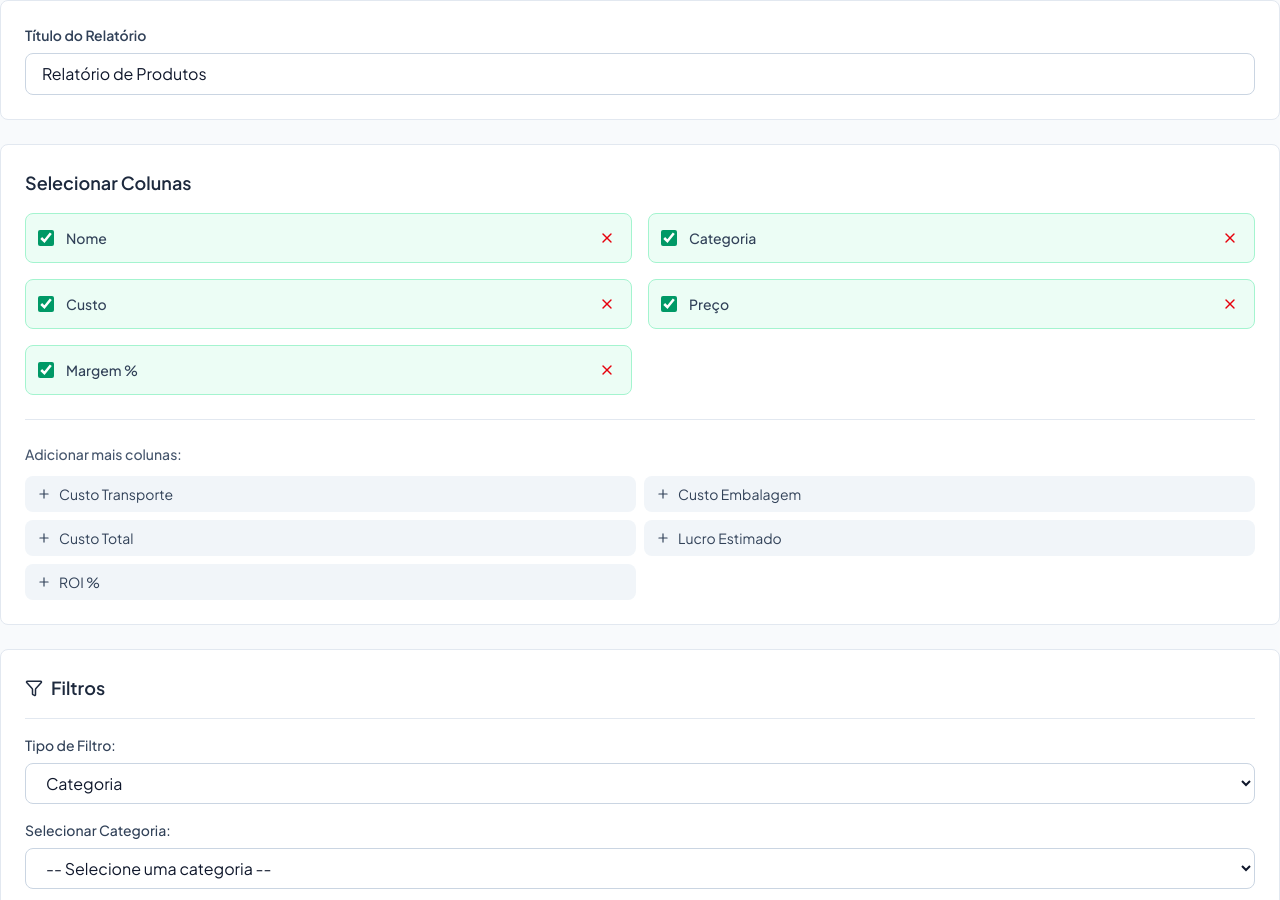
Test: ReportBuilder - Filter Functionality › Filter UI Rendering › should show price range inputs when price filter type selected
Select "Faixa de Preço" in the dropdown below "Tipo de Filtro:" at (640, 784), box [25,763,1255,804]
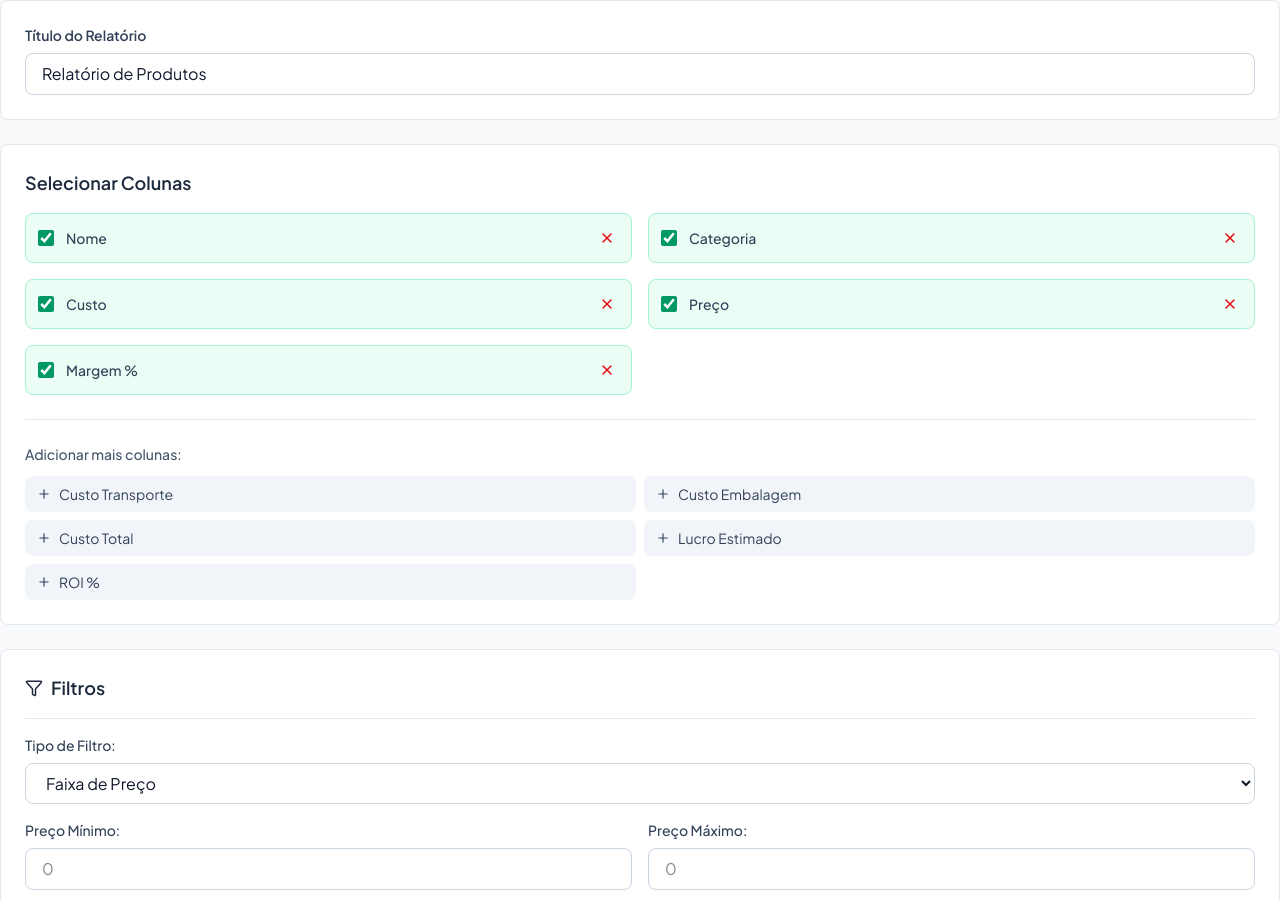
Check: the number field labelled "Preço Mínimo:" is shown, box [25,848,632,890]
Check: the number field labelled "Preço Máximo:" is shown, box [648,848,1255,890]
